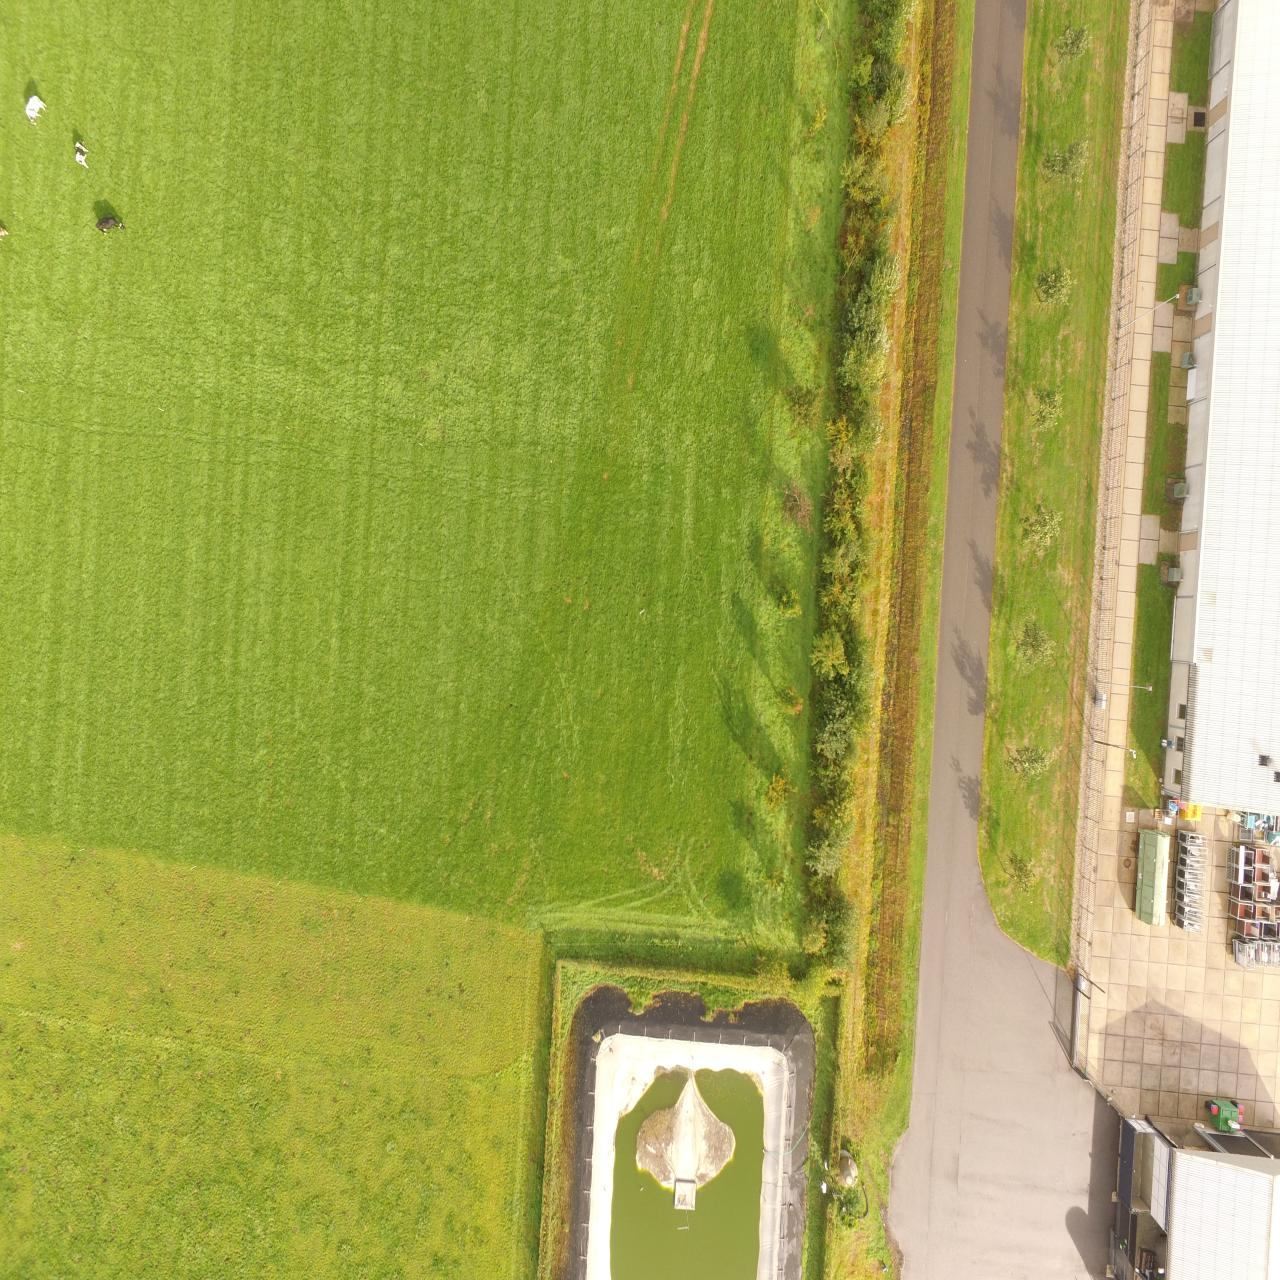cow: (95, 215, 125, 236), (75, 138, 89, 170)
